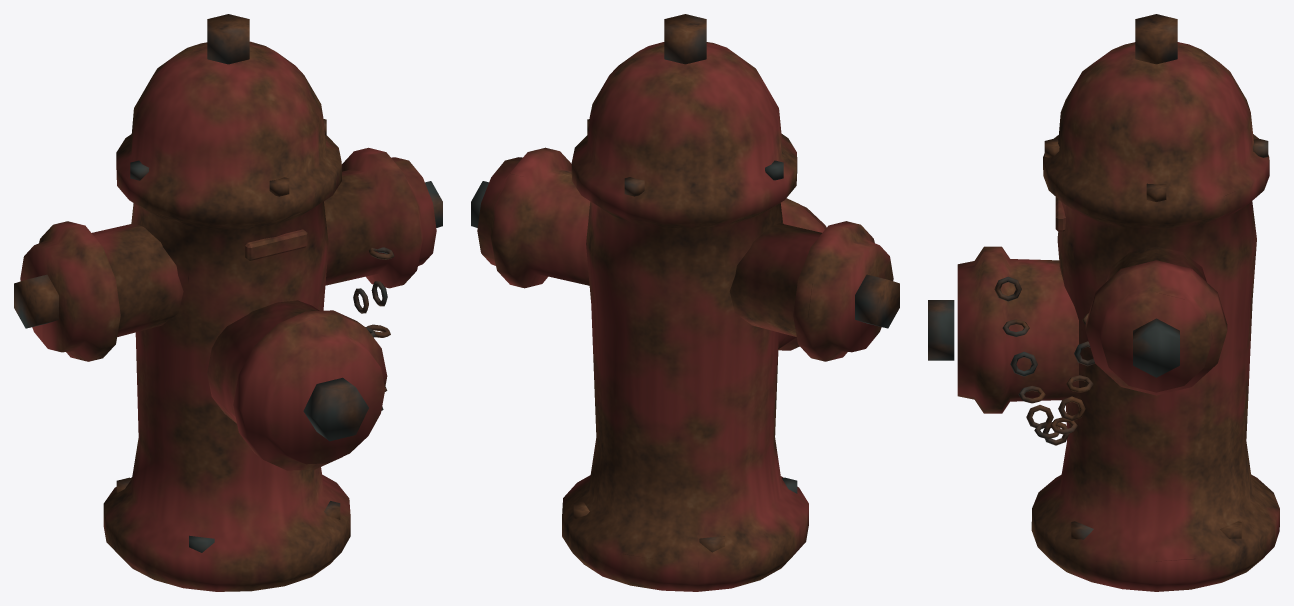
File: fire_hydrant.glb
3 renders of one model, left to right at view 1: azimuth 30°, elevation 25°; view 2: azimuth 150°, elevation 25°; view 3: azimuth 270°, elevation 25°, orthographic.
Visible parts, largest first — view 1: fire_hydrant; view 2: fire_hydrant; view 3: fire_hydrant.
Boxes of the visible parts, x1=… form: fire_hydrant: x1=14, y1=14, x2=442, y2=591; fire_hydrant: x1=471, y1=14, x2=899, y2=591; fire_hydrant: x1=928, y1=14, x2=1279, y2=591.
Size of the model in its own units: 0.694 by 0.852 by 0.5222.
Materials: 1 (1 with a texture image).
